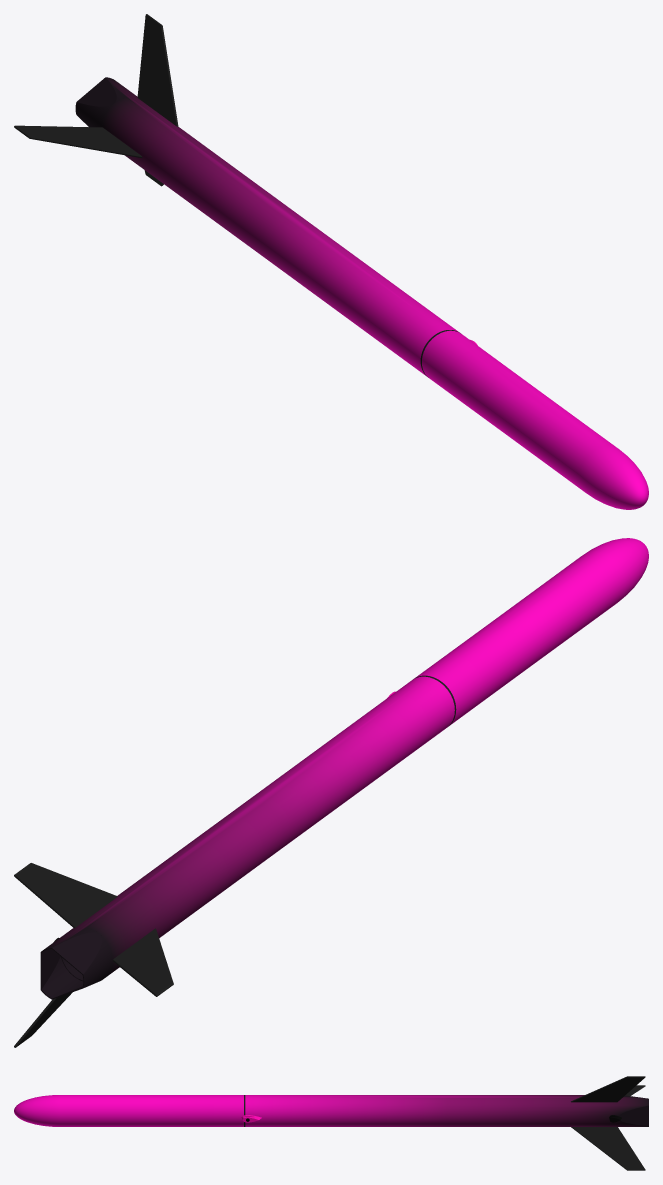
File: deimos-ii.glb
The picture shows the model from 3 angles, top to bottom: view 1: azimuth 30°, elevation 25°; view 2: azimuth 150°, elevation 25°; view 3: azimuth 270°, elevation 25°; orthographic projection. The views are drawn at different scales.
Parts seen in each view (by area): view 1: Body2 (×3), Body1 (×4); view 2: Body2 (×3), Body1 (×4); view 3: Body1 (×2), Body2 (×3), Body3.
Boxes of the visible parts, x1=… form: Body2 (×3): x1=102, y1=14, x2=642, y2=509; Body1 (×4): x1=14, y1=77, x2=648, y2=508; Body2 (×3): x1=14, y1=538, x2=648, y2=976; Body1 (×4): x1=40, y1=538, x2=632, y2=999; Body1 (×2): x1=14, y1=1096, x2=648, y2=1126; Body2 (×3): x1=14, y1=1076, x2=645, y2=1108; Body3: x1=571, y1=1127, x2=645, y2=1170.
Size of the model in its own units: 0.2843 by 0.3276 by 2.
